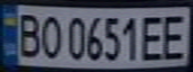0: (63, 12, 87, 61)
1: (121, 12, 142, 62)
5: (103, 14, 124, 62)
6: (84, 14, 106, 62)
B: (12, 10, 42, 58)
E: (157, 11, 193, 61), (139, 11, 169, 62)
O: (36, 11, 63, 60)
